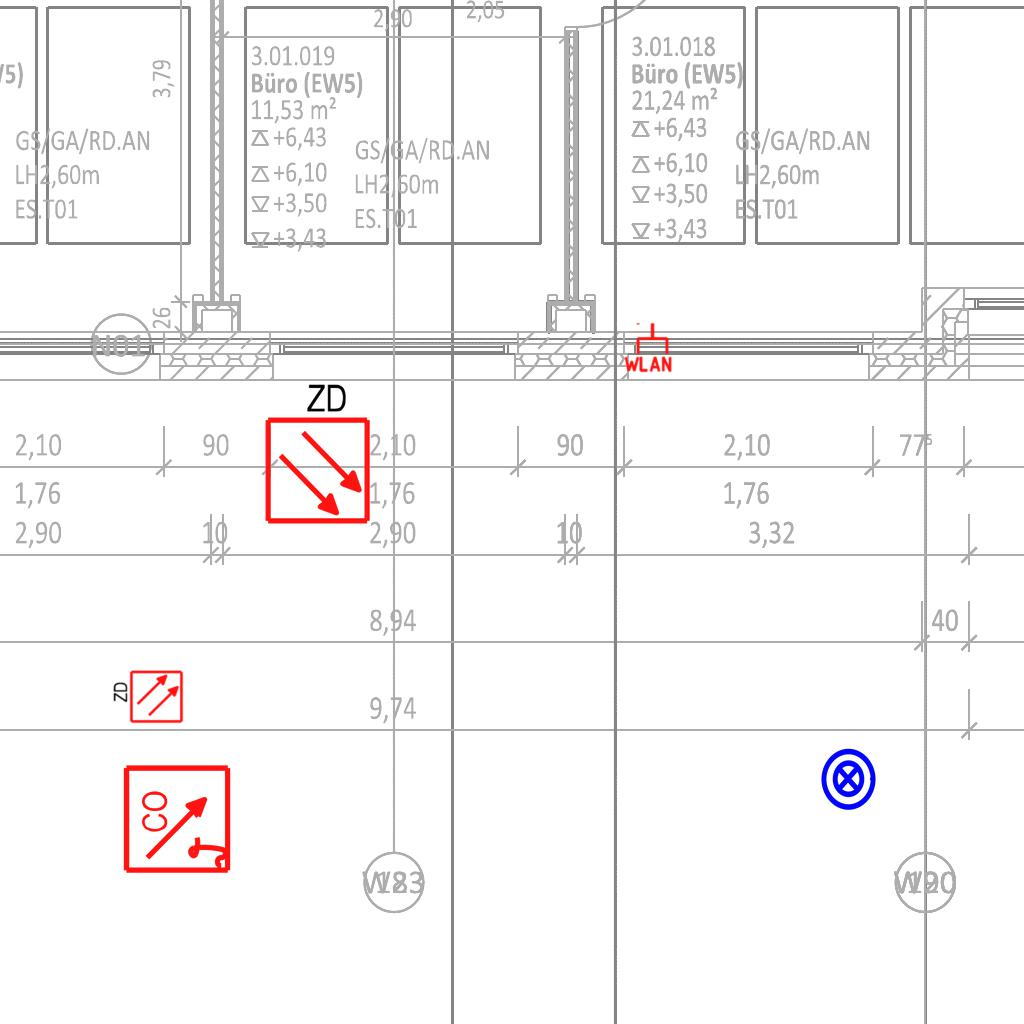ROA_Rauchmelder_optisch_mit_Signalgeber_(Sockelsirene): (122, 762, 235, 875)
Taster_beleuchtet: (815, 746, 881, 812)
WLAN: (622, 321, 674, 373)
ZD_Melder_in_Zwischendecke_mit_Revisionsoeffnung_mind_40_x_40_cm: (259, 377, 373, 526), (110, 669, 184, 726)
